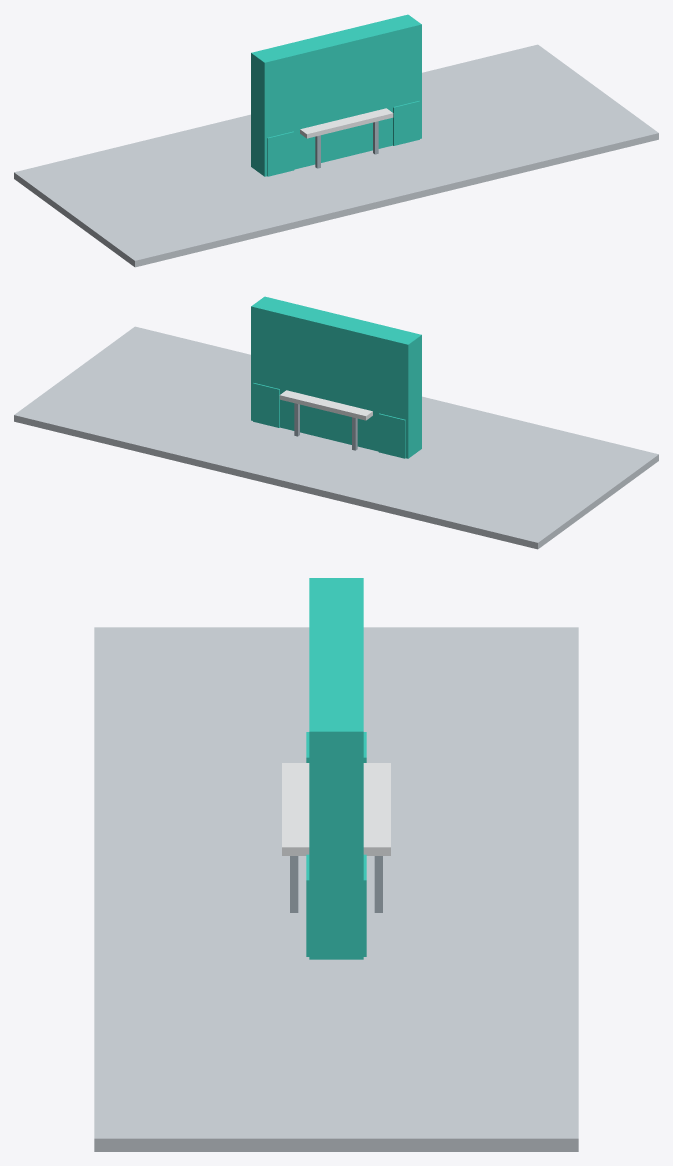
3 renders of one model, top to bottom at view 1: azimuth 30°, elevation 25°; view 2: azimuth 150°, elevation 25°; view 3: azimuth 270°, elevation 25°, orthographic. The views are drawn at different scales.
Visible parts, largest first — view 1: Exhibition Booth Concept; view 2: Exhibition Booth Concept; view 3: Exhibition Booth Concept.
Part boxes in pixels (x1=…): Exhibition Booth Concept: x1=14, y1=14, x2=658, y2=267; Exhibition Booth Concept: x1=14, y1=296, x2=658, y2=549; Exhibition Booth Concept: x1=94, y1=578, x2=578, y2=1151.
Bounding box in the file's own units: 10 × 2.2 × 4.
